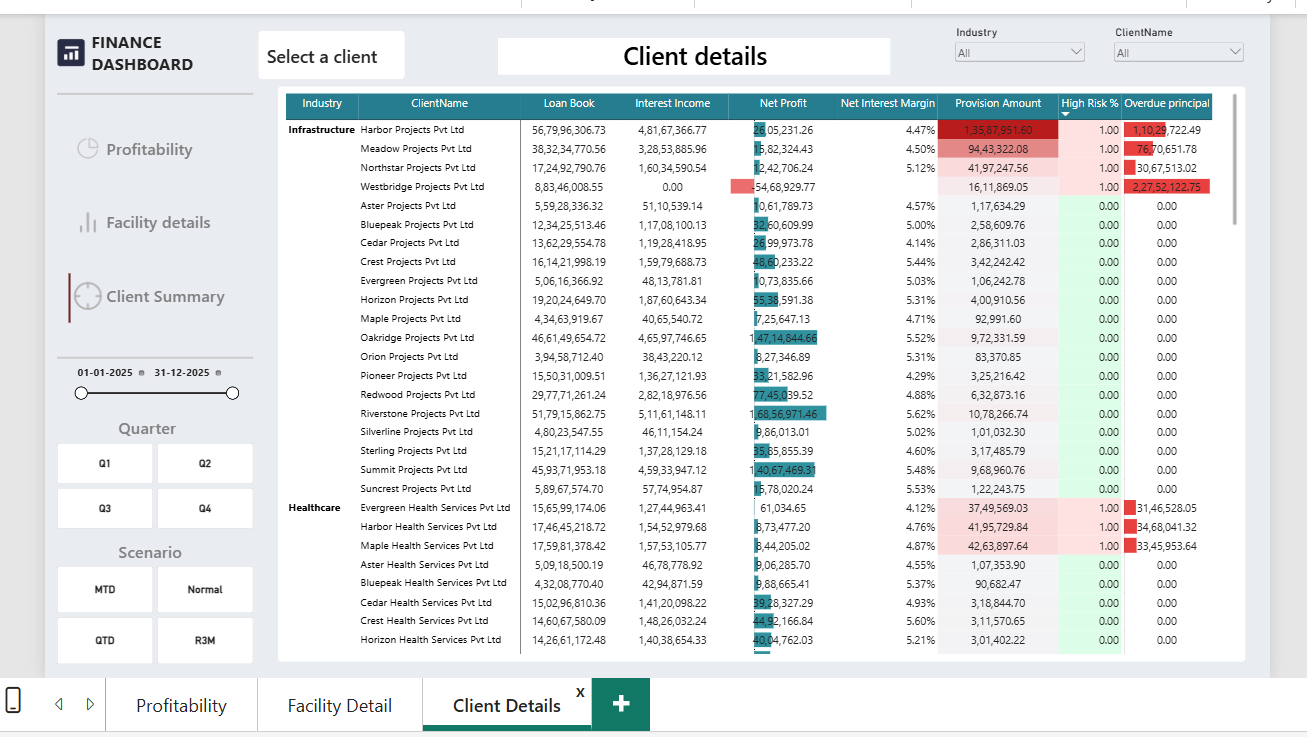

What the dashboard file says about the page in this screenshot:
{"tool":"powerbi","page":{"name":"Client Details","canvas":[2400,1300],"ordinal":2},"visuals":[{"type":"image","box":[0,24,102,105],"z":0},{"type":"textbox","box":[92,32,223,113],"z":1000},{"type":"shape","box":[24,120,384,72],"z":2000},{"type":"shape","box":[24,648,384,48],"z":3000},{"type":"textbox","box":[120,240,216,48],"z":4000},{"type":"textbox","box":[120,384,288,48],"z":5000},{"type":"textbox","box":[144,1032,144,48],"z":6000},{"type":"image","box":[0,192,168,144],"z":7000},{"type":"image","box":[0,336,168,144],"z":8000},{"type":"image","box":[0,480,168,144],"z":9000},{"type":"shape","box":[0,507,96,96],"z":10000},{"type":"advancedSlicerVisual","fields":{"Values":["Calculation group.Time Period"]},"box":[24,1080,384,192],"z":11000},{"type":"textbox","box":[120,528,264,48],"z":12000},{"type":"textbox","box":[144,787,144,48],"z":13000},{"type":"advancedSlicerVisual","fields":{"Values":["Date_dim.Quarter"]},"box":[24,840,384,168],"z":14000},{"type":"shape","box":[888,48,768,72],"z":15000},{"type":"textbox","box":[936,48,672,72],"z":16000},{"type":"slicer","fields":{"Values":["Dim_Client.Industry"]},"box":[1776,24,264,96],"z":17000},{"type":"slicer","fields":{"Values":["Dim_Client.ClientName"]},"box":[2088,24,264,96],"z":18000},{"type":"pivotTable","fields":{"Values":["Z_Measures.Loan Book 1","Z_Measures.Interest Income","Z_Measures.Net Profit","Z_Measures.Net Interest Margin","Z_Measures.Provision Amount","Z_Measures.High Risk Exposure %","Z_Measures.Current overdue principal"],"Rows":["Dim_Client.Industry","Dim_Client.ClientName"]},"box":[456,139.5,1896,1128],"z":19000},{"type":"slicer","fields":{"Values":["Date_dim.Date"]},"box":[48,672,336,120],"z":20000},{"type":"cardVisual","fields":{"Data":["Z_Measures.Selected Client"]},"box":[416,32,288,96],"z":21000}]}

Visuals, with their boxes on the page's 2400x1300 design canvas (x1, y1, x2, y2). These are canvas units, not pixel positions in the 1307x737 screenshot, which may show the page scaled, cropped or inside an application window:
image: 0, 24, 102, 129
textbox: 92, 32, 315, 145
shape: 24, 120, 408, 192
shape: 24, 648, 408, 696
textbox: 120, 240, 336, 288
textbox: 120, 384, 408, 432
textbox: 144, 1032, 288, 1080
image: 0, 192, 168, 336
image: 0, 336, 168, 480
image: 0, 480, 168, 624
shape: 0, 507, 96, 603
advancedSlicerVisual - Calculation group.Time Period: 24, 1080, 408, 1272
textbox: 120, 528, 384, 576
textbox: 144, 787, 288, 835
advancedSlicerVisual - Date_dim.Quarter: 24, 840, 408, 1008
shape: 888, 48, 1656, 120
textbox: 936, 48, 1608, 120
slicer - Dim_Client.Industry: 1776, 24, 2040, 120
slicer - Dim_Client.ClientName: 2088, 24, 2352, 120
pivotTable - Z_Measures.Loan Book 1 x Z_Measures.Interest Income: 456, 140, 2352, 1268
slicer - Date_dim.Date: 48, 672, 384, 792
cardVisual - Z_Measures.Selected Client: 416, 32, 704, 128
